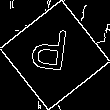P_S: (34, 28, 76, 82)
